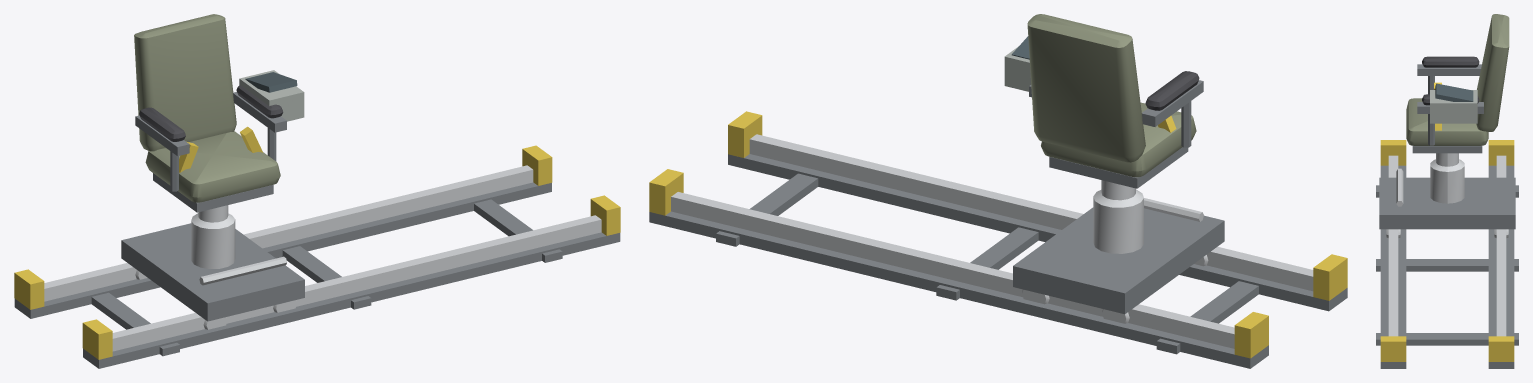
The model's file is cold-war-missile-silo-and-command-bunker-commander-cha-3b5c2575__15662.glb.
3 renders of one model, left to right at view 1: azimuth 30°, elevation 25°; view 2: azimuth 150°, elevation 25°; view 3: azimuth 270°, elevation 25°, orthographic. The views are drawn at different scales.
Visible parts, largest first — view 1: chair-commander (×7), commander-chair-on-rails; view 2: commander-chair-on-rails, chair-commander (×5); view 3: chair-commander (×6), commander-chair-on-rails.
Boxes of the visible parts, x1,y1,x2,y2 form: chair-commander (×7): (121,14,304,329); commander-chair-on-rails: (14,145,620,368); commander-chair-on-rails: (649,111,1347,368); chair-commander (×5): (1004,14,1224,323); chair-commander (×6): (1379,14,1515,237); commander-chair-on-rails: (1376,140,1518,368).
Bounding box in the file's own units: 3 × 1.39 × 0.8999.
